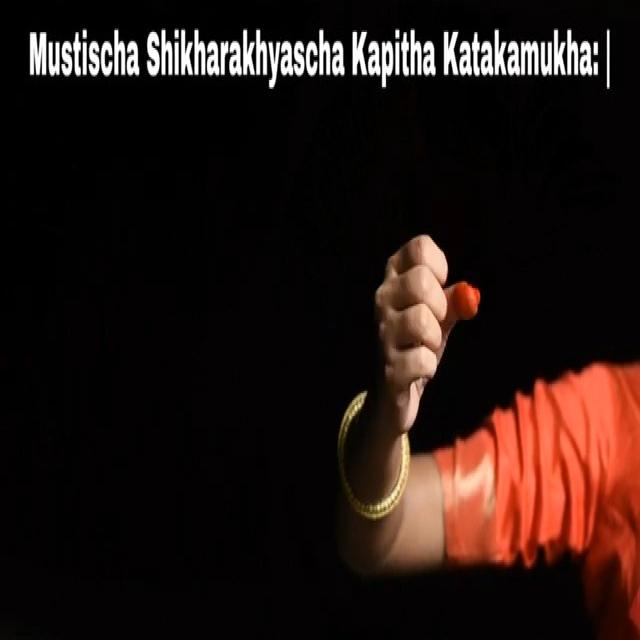Mushti: (372, 219, 497, 442)
bangle: (322, 434, 412, 530)
text: (24, 10, 616, 96)
